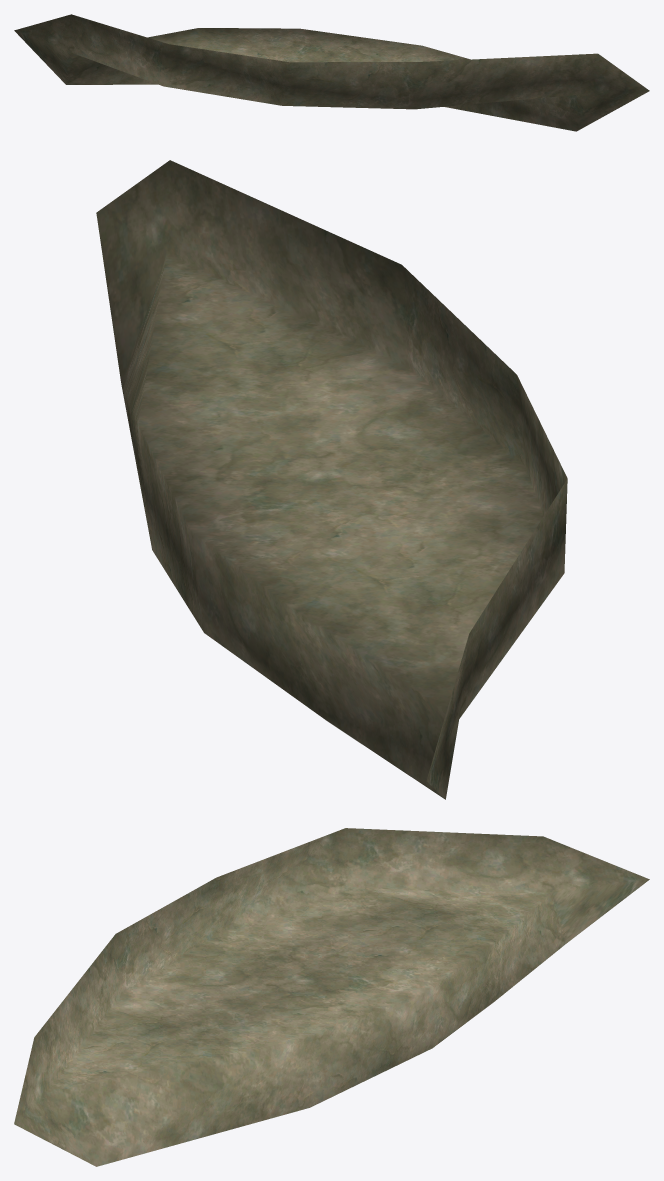
Rendered from EKH_THRONE_PS_TH_PLATFORM_978.fbx.
3 views of the same model, one above another, from view 1: azimuth 30°, elevation 25°; view 2: azimuth 150°, elevation 25°; view 3: azimuth 270°, elevation 25° (orthographic). The views are drawn at different scales.
Parts seen in each view (by area): view 1: EKH_THRONE_PS_TH_PLATFORM_978; view 2: EKH_THRONE_PS_TH_PLATFORM_978; view 3: EKH_THRONE_PS_TH_PLATFORM_978.
Part boxes in pixels (x1,y1,x2,y2): EKH_THRONE_PS_TH_PLATFORM_978: (14, 14, 649, 131); EKH_THRONE_PS_TH_PLATFORM_978: (96, 160, 567, 799); EKH_THRONE_PS_TH_PLATFORM_978: (14, 828, 649, 1166).
Bounding box in the file's own units: 45410 × 11150 × 46242.
Materials: 1 (1 with a texture image).
